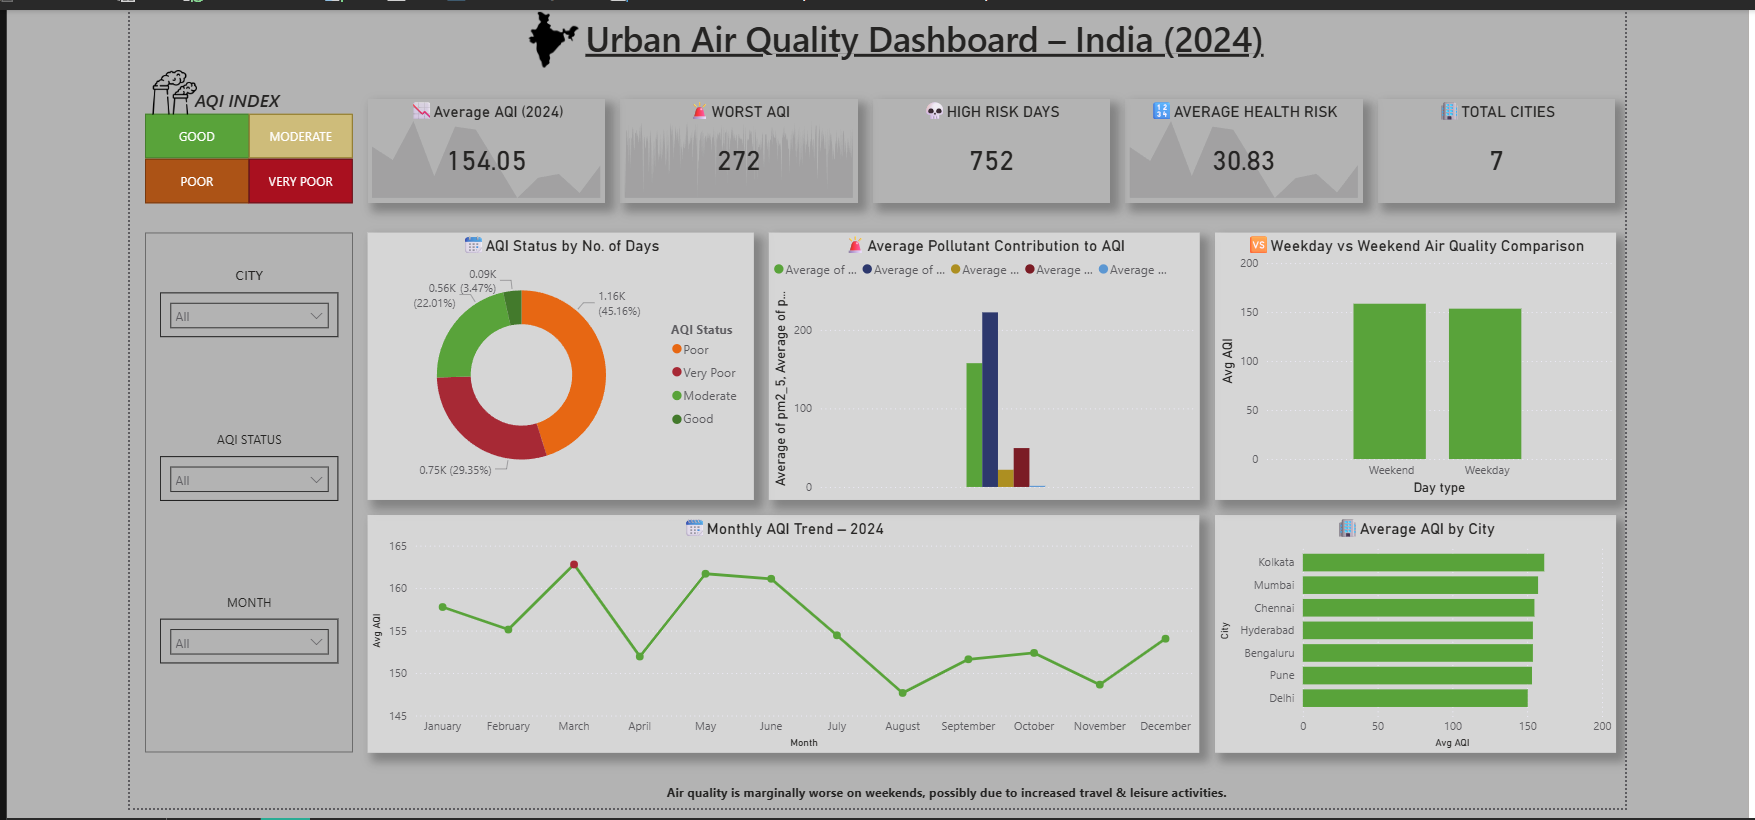

The dashboard page shown, as its layout file describes it:
{"tool":"powerbi","page":{"name":"Page 1","canvas":[1610,860],"ordinal":0},"visuals":[{"type":"shape","box":[16,112,112,48],"z":0,"group":"g5"},{"type":"shape","box":[16,240,224,560],"z":0},{"type":"group","id":"g1","title":"Group 1","box":[32,272,192,80],"z":0,"group":"g4"},{"type":"textbox","box":[384,0,944,64],"z":1000},{"type":"shape","box":[128,112,112,48],"z":1000,"group":"g5"},{"type":"group","id":"g2","title":"Group 2","box":[32,448,192,80],"z":1000,"group":"g4"},{"type":"shape","box":[16,160,112,48],"z":2000,"group":"g5"},{"type":"donutChart","title":"📆AQI Status by No. of Days","fields":{"Category":["urban_air_quality_2024.AQI Status"],"Y":["CountNonNull(urban_air_quality_2024.Date)"]},"box":[256,240,416,288],"z":2000},{"type":"group","id":"g3","title":"Group 3","box":[32,624,192,80],"z":2000,"group":"g4"},{"type":"shape","box":[128,160,112,48],"z":3000,"group":"g5"},{"type":"lineChart","title":"🗓️Monthly AQI Trend – 2024","fields":{"Y":["urban_air_quality_2024.Avg AQI"],"Category":["urban_air_quality_2024.Date.Variation.Date Hierarchy.Month"]},"box":[256,544,896,256],"z":3000},{"type":"barChart","title":"🏢Average AQI by City","fields":{"Y":["urban_air_quality_2024.Avg AQI"],"Category":["urban_air_quality_2024.City"]},"box":[1168,544,432,256],"z":4000},{"type":"clusteredColumnChart","title":"🚨Average Pollutant Contribution to AQI","fields":{"Y":["Avg(urban_air_quality_2024.pm2_5)","Avg(urban_air_quality_2024.pm10)","Avg(urban_air_quality_2024.so2)","Avg(urban_air_quality_2024.no2)","Avg(urban_air_quality_2024.co)"]},"box":[688,240,464,288],"z":5000},{"type":"columnChart","title":"🆚Weekday vs Weekend Air Quality Comparison","fields":{"Category":["urban_air_quality_2024.Day type"],"Y":["urban_air_quality_2024.Avg AQI"]},"box":[1168,240,432,288],"z":6000},{"type":"group","id":"g4","title":"Group 4","box":[32,272,192,432],"z":7000},{"type":"slicer","fields":{"Values":["urban_air_quality_2024.City"]},"box":[32,304,192,48],"z":7000,"group":"g1"},{"type":"kpi","title":"📉Average AQI (2024)","fields":{"Indicator":["urban_air_quality_2024.Avg AQI"],"TrendLine":["urban_air_quality_2024.Month"]},"box":[256,96,256,112],"z":8000},{"type":"slicer","fields":{"Values":["urban_air_quality_2024.AQI Status"]},"box":[32,480,192,48],"z":8000,"group":"g2"},{"type":"kpi","title":"🚨WORST AQI","fields":{"Indicator":["urban_air_quality_2024.Max AQI"],"TrendLine":["urban_air_quality_2024.date(fixed)"]},"box":[528,96,256,112],"z":9000},{"type":"slicer","fields":{"Values":["urban_air_quality_2024.Month"]},"box":[32,656,192,48],"z":9000,"group":"g3"},{"type":"kpi","title":"💀HIGH RISK DAYS","fields":{"Indicator":["urban_air_quality_2024.Very Poor Days"],"TrendLine":["urban_air_quality_2024.Year"]},"box":[800,96,256,112],"z":10000},{"type":"textbox","box":[64,272,128,32],"z":10000,"group":"g1"},{"type":"kpi","title":"🔢AVERAGE HEALTH RISK","fields":{"Indicator":["urban_air_quality_2024.Avg Health Risk"],"TrendLine":["urban_air_quality_2024.Month"]},"box":[1072,96,256,112],"z":11000},{"type":"textbox","box":[64,448,128,32],"z":11000,"group":"g2"},{"type":"kpi","title":"🏢TOTAL CITIES","fields":{"TrendLine":["urban_air_quality_2024.Month"],"Indicator":["urban_air_quality_2024.Cities"]},"box":[1344,96,256,112],"z":12000},{"type":"textbox","box":[64,624,128,32],"z":12000,"group":"g3"},{"type":"textbox","box":[512,828,736,32],"z":13000},{"type":"group","id":"g5","title":"Group 5","box":[16,112,224,96],"z":16002},{"type":"image","box":[304,0,304,64],"z":16003},{"type":"image","box":[16,64,64,48],"z":16004},{"type":"textbox","box":[64,80,128,48],"z":16005}]}

Visuals, with their boxes in screenshot pixels (x1, y1, x2, y2):
shape: (129,110,234,155)
shape: (129,230,339,755)
"Group 1" group: (144,260,324,335)
textbox: (474,5,1360,65)
shape: (234,110,339,155)
"Group 2" group: (144,425,324,500)
shape: (129,155,234,200)
"📆AQI Status by No. of Days" donutChart: (354,230,745,500)
"Group 3" group: (144,590,324,665)
shape: (234,155,339,200)
"🗓️Monthly AQI Trend – 2024" lineChart: (354,515,1195,755)
"🏢Average AQI by City" barChart: (1210,515,1615,755)
"🚨Average Pollutant Contribution to AQI" clusteredColumnChart: (760,230,1195,500)
"🆚Weekday vs Weekend Air Quality Comparison" columnChart: (1210,230,1615,500)
"Group 4" group: (144,260,324,665)
slicer - urban_air_quality_2024.City: (144,290,324,335)
"📉Average AQI (2024)" kpi: (354,95,595,200)
slicer - urban_air_quality_2024.AQI Status: (144,455,324,500)
"🚨WORST AQI" kpi: (610,95,850,200)
slicer - urban_air_quality_2024.Month: (144,620,324,665)
"💀HIGH RISK DAYS" kpi: (865,95,1105,200)
textbox: (174,260,294,290)
"🔢AVERAGE HEALTH RISK" kpi: (1120,95,1360,200)
textbox: (174,425,294,455)
"🏢TOTAL CITIES" kpi: (1375,95,1615,200)
textbox: (174,590,294,620)
textbox: (595,781,1285,811)
"Group 5" group: (129,110,339,200)
image: (399,5,685,65)
image: (129,65,189,110)
textbox: (174,80,294,125)
